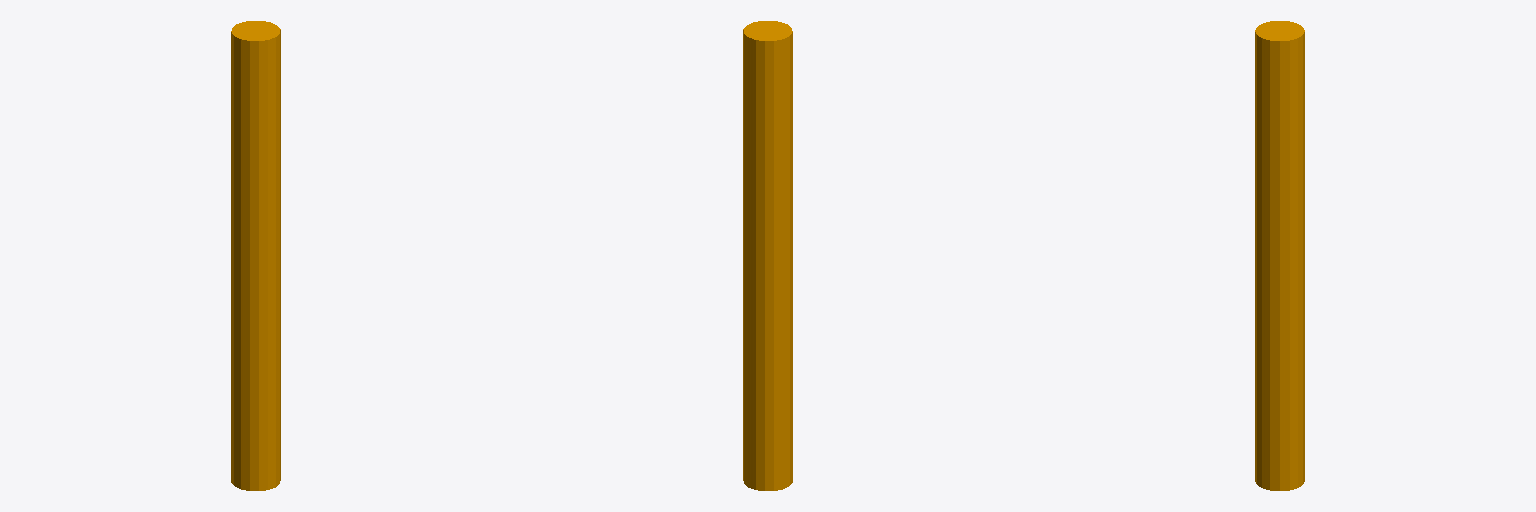
robot.urdf — 00648_plug:
<?xml version="1.0"?>
<robot name="00648_plug">
	<link name="00648_plug">
		<visual>
			<geometry>
				<mesh filename="../mesh/00648/asset_plug.obj"/>
			</geometry>
		</visual>
		<collision>
			<geometry>
				<mesh filename="../mesh/00648/asset_plug.obj"/>
			</geometry>
			<sdf resolution="256"/>
		</collision>
	</link>
</robot>

--- What the picture shows (computed from the rendered views, not written in the file) ---
3 views of the same robot in one strip: view 1: azimuth 30°, elevation 25°; view 2: azimuth 150°, elevation 25°; view 3: azimuth 270°, elevation 25° (orthographic).
Robot: 00648_plug — 1 links, 0 joints (none); root link 00648_plug; default pose: every joint at zero.
Links seen in each view (by area): view 1: 00648_plug; view 2: 00648_plug; view 3: 00648_plug.
Boxes of the visible links, x1,y1,x2,y2 form: 00648_plug: (231, 21, 280, 490); 00648_plug: (743, 21, 792, 490); 00648_plug: (1255, 21, 1304, 490).
Bounding box of the posed robot: 0.0092 × 0.0092 × 0.092 m (x, y, z).
1 mesh visuals loaded from 1 distinct referenced files (1 OBJ).
